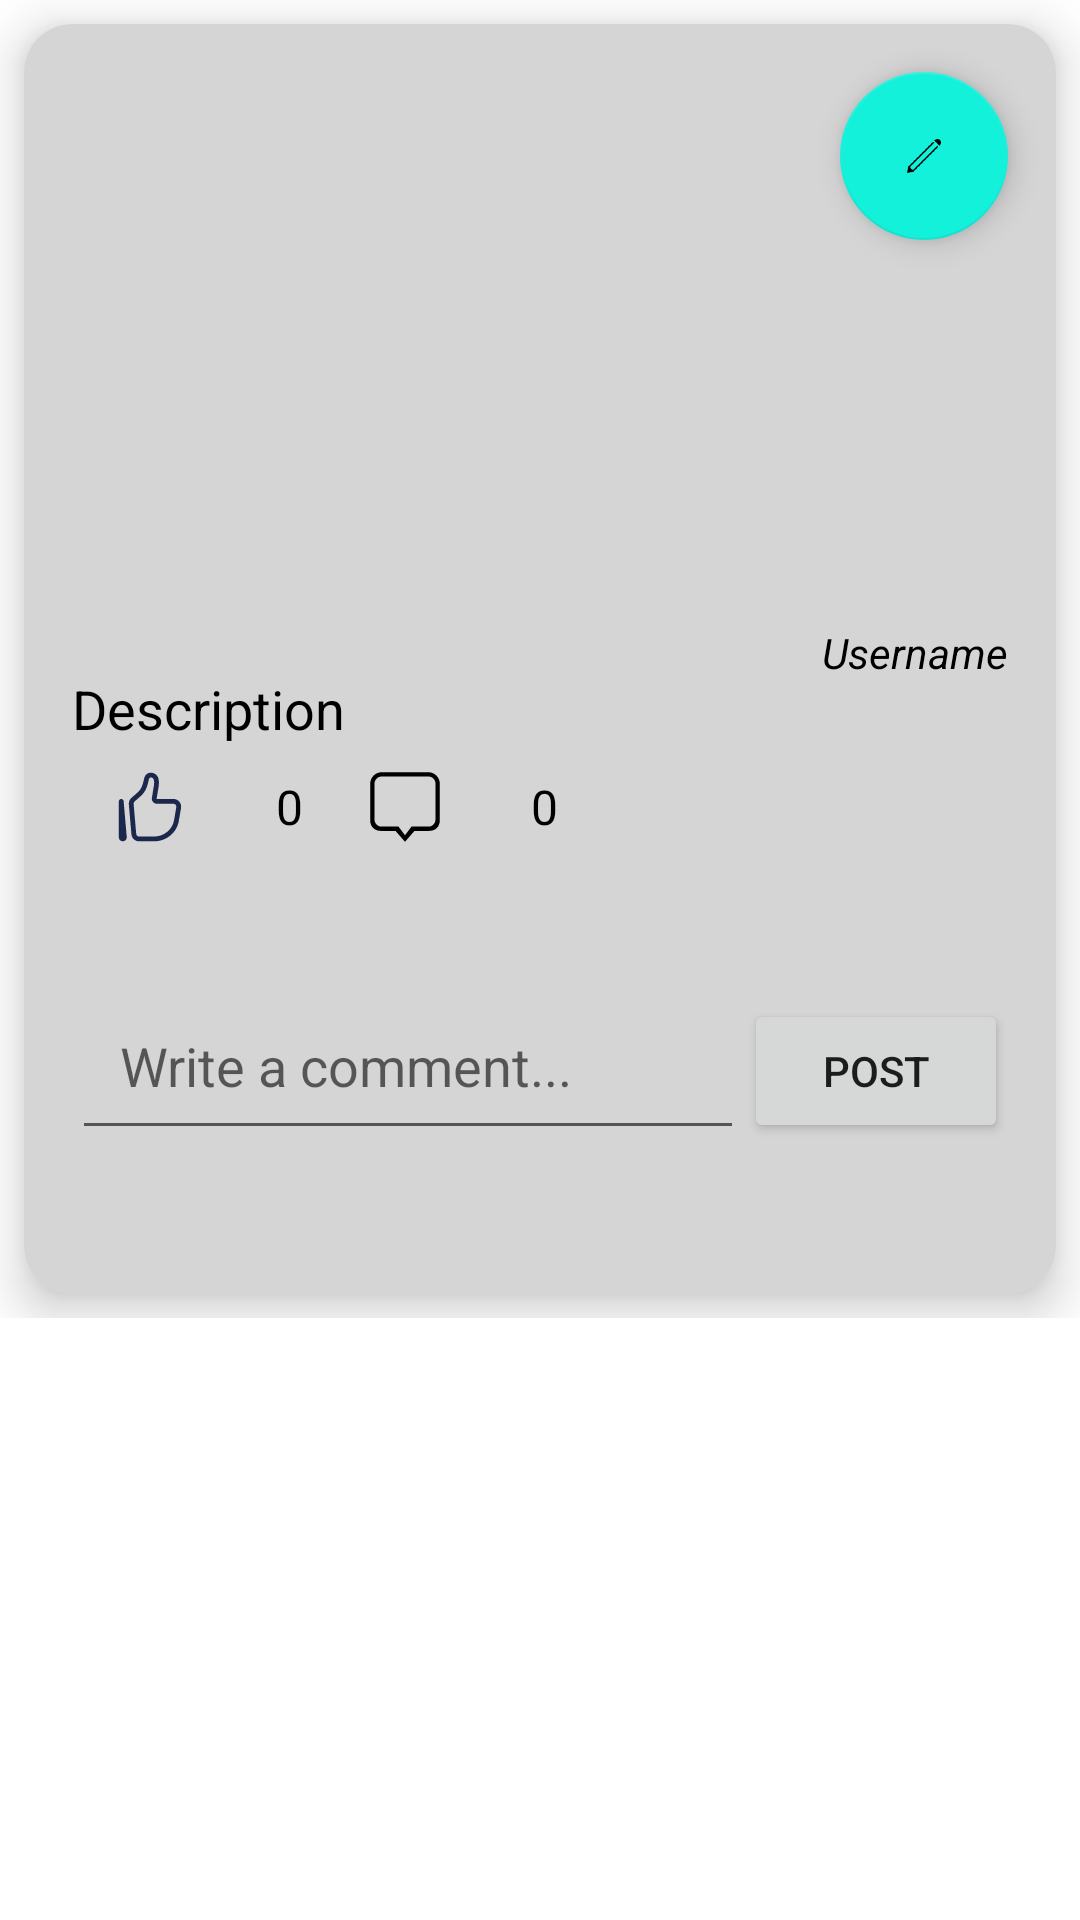

Icons on this 1080px×1920px Android screen, each with its box as Rect(x1, y1, x2, y2):
edit: Rect(840, 72, 1008, 240)
like: Rect(118, 772, 181, 842)
